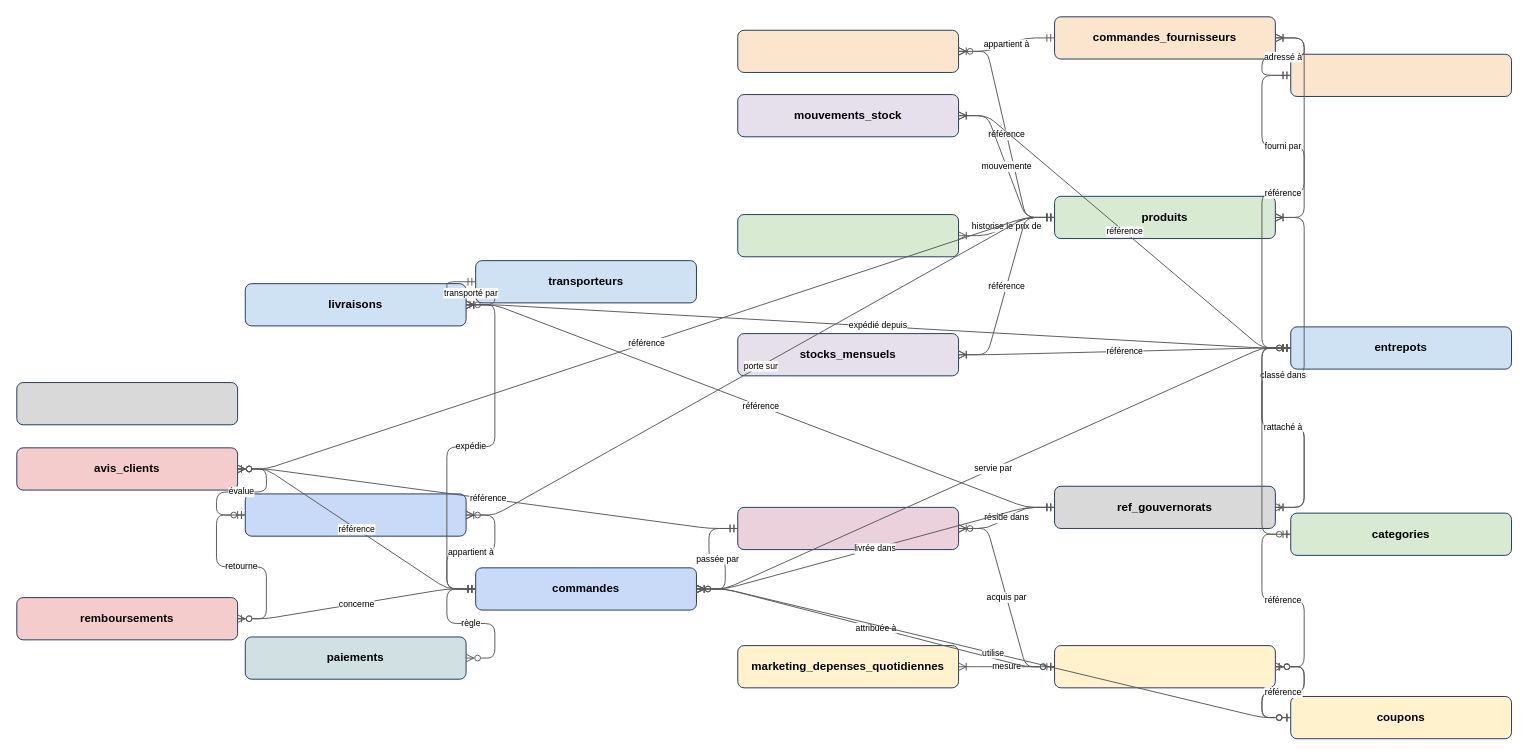
This 1528x756 diagram has some shape labels left out. Each missing label, with the centre of its shape:
"campagnes_marketing" belongs at (x=1164, y=666).
"clients" belongs at (x=848, y=528).
"dim_calendrier" belongs at (x=127, y=403).
"fournisseurs" belongs at (x=1401, y=74).
"lignes_commande" belongs at (x=355, y=514).
"lignes_commande_fournisseur" belongs at (x=848, y=50).
"produits_prix_historique" belongs at (x=848, y=235).
